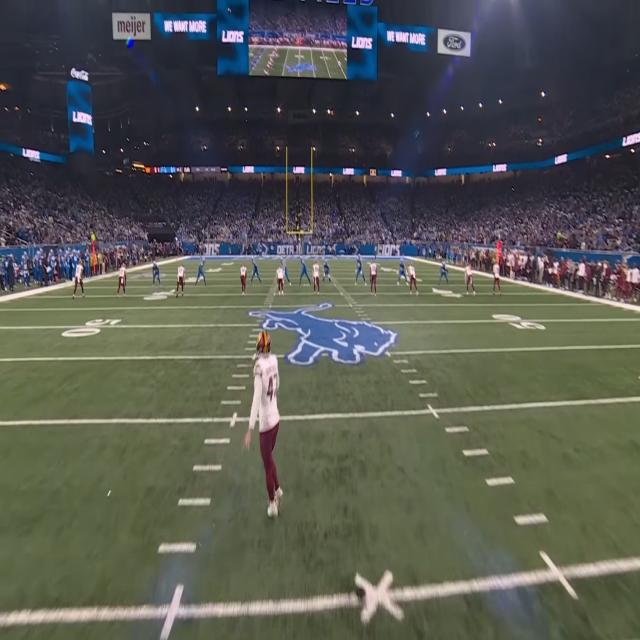Ball: (227, 7, 232, 17)
